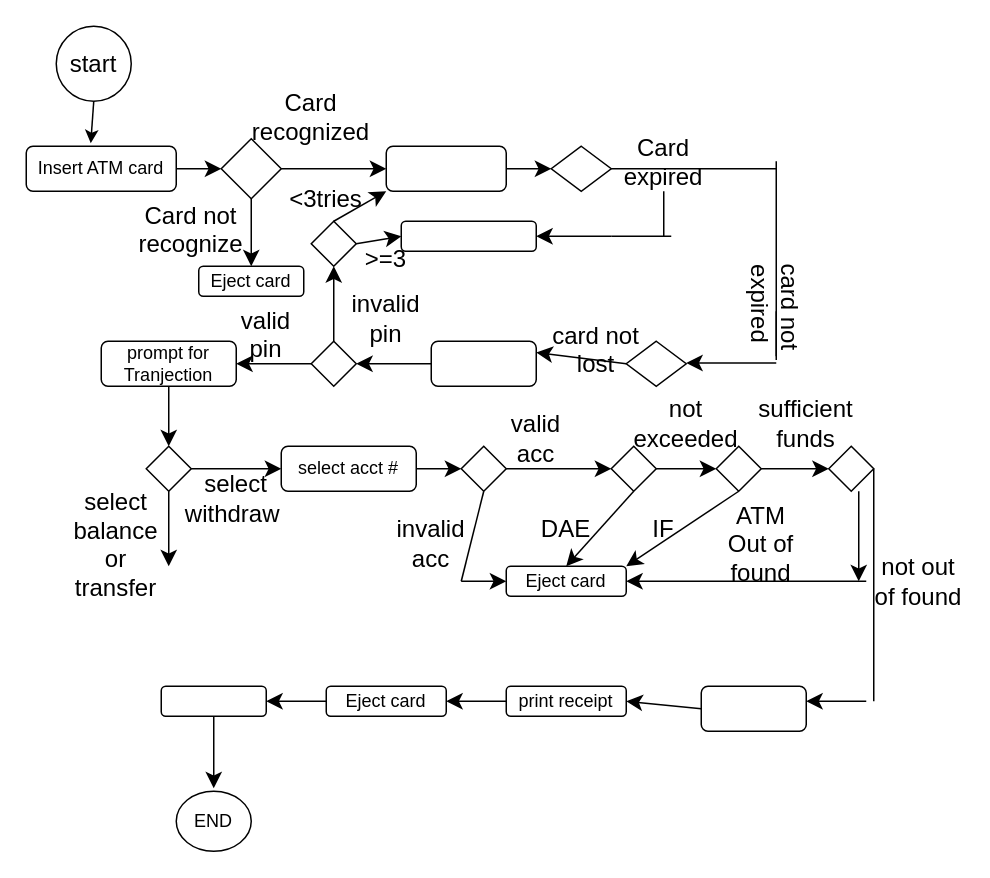
The diagram is 990 pixels wide and 878 high, and some of its shapes have lost their labels. The shapes that lost their labels are listed below. From the top down, each one's box as (x1, y1, x2, y2) in pixels, then its label:
(385, 145, 506, 191): Enter PIN
(400, 220, 536, 251): confiscate card
(430, 340, 536, 386): check PIN
(160, 685, 266, 716): welcome
(700, 685, 806, 731): Dispence cash
